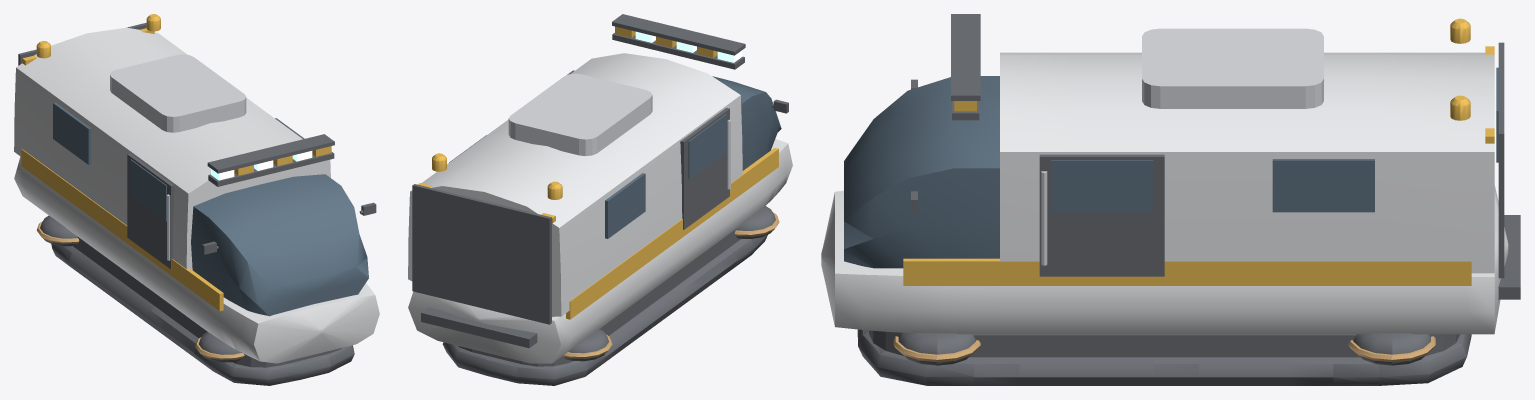
Rendered from hover-transit-and-antigrav-fleet-hover-ambulance-15e4ff83__17085.glb.
3 renders of one model, left to right at view 1: azimuth 30°, elevation 25°; view 2: azimuth 150°, elevation 25°; view 3: azimuth 270°, elevation 25°, orthographic. The views are drawn at different scales.
Parts seen in each view (by area): view 1: hover-ambulance; view 2: hover-ambulance; view 3: hover-ambulance.
Boxes of the visible parts, x1,y1,x2,y2 form: hover-ambulance: (14, 14, 379, 385); hover-ambulance: (408, 14, 792, 385); hover-ambulance: (821, 14, 1520, 385).
Bounding box in the file's own units: 2.5 × 2.82 × 6.15.
